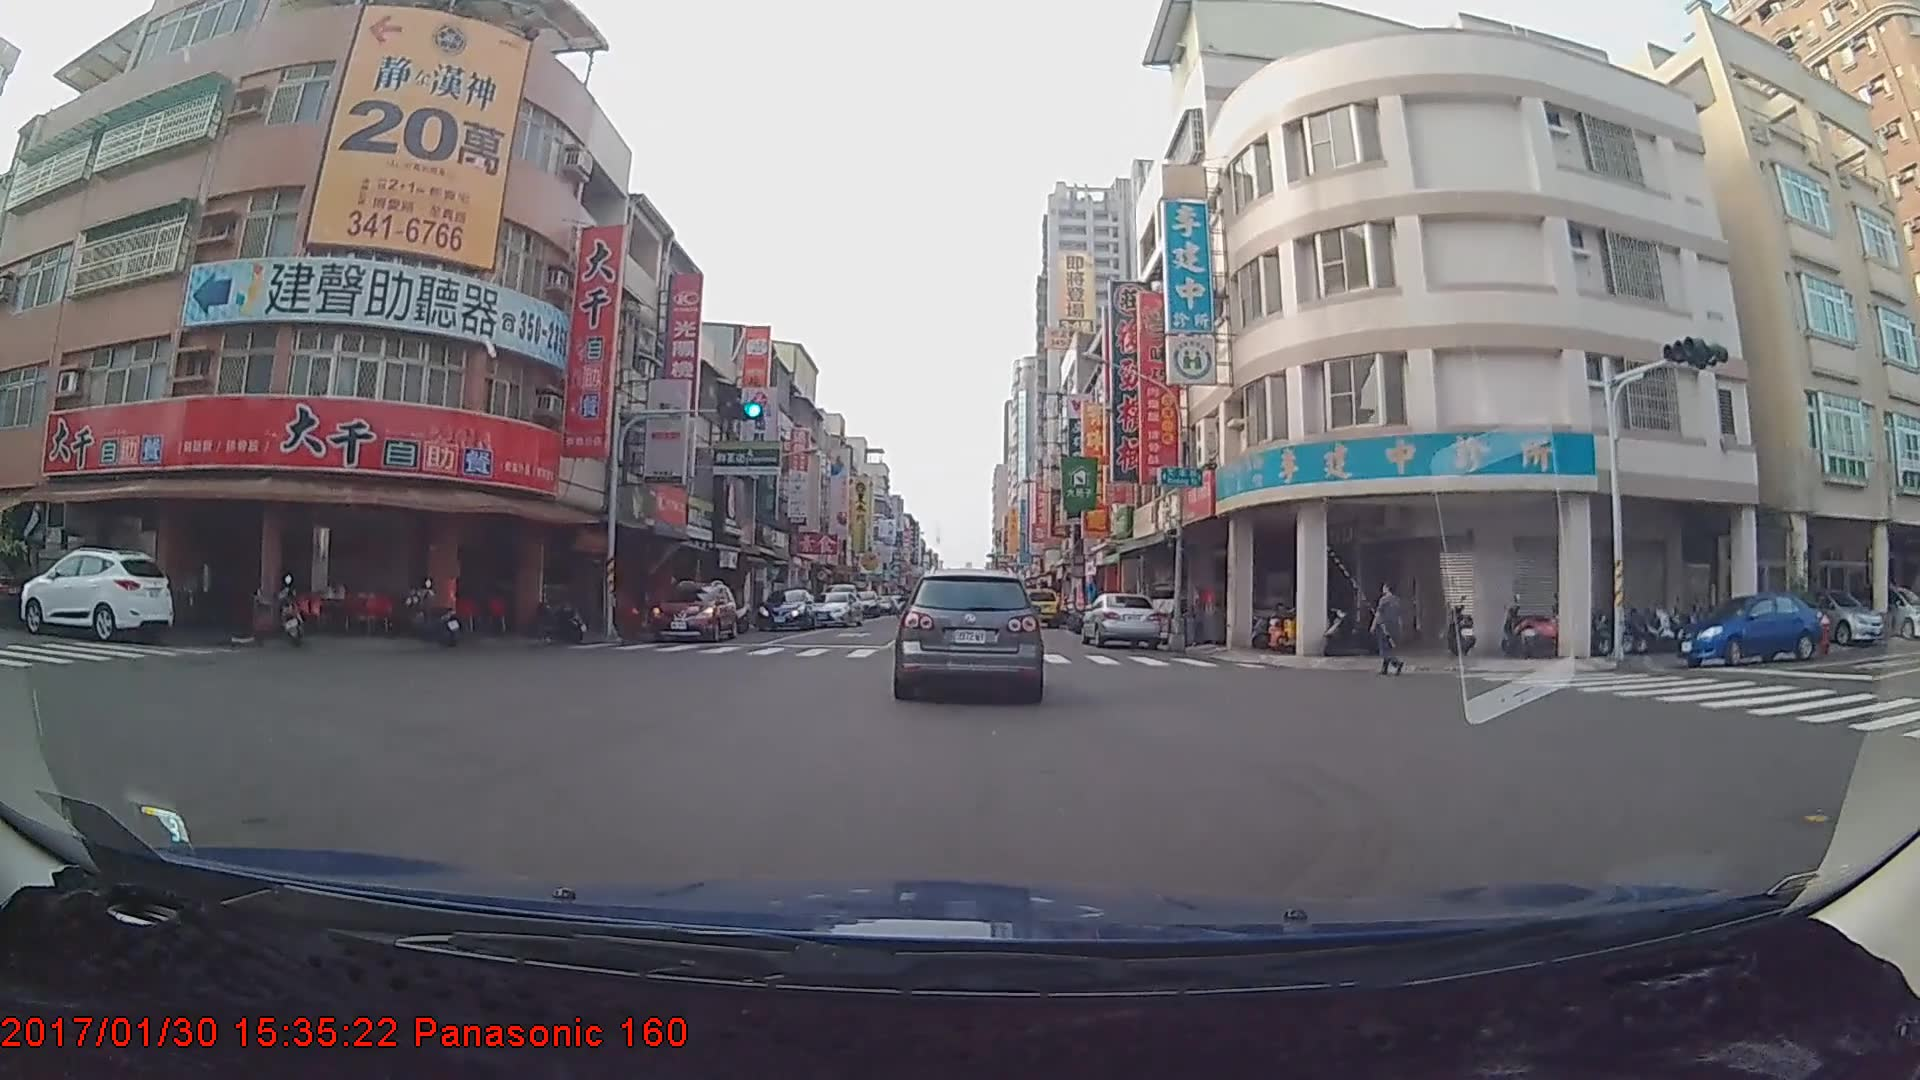pedestrian: (1370, 586, 1408, 680)
vehicle: (894, 570, 1043, 702), (17, 547, 172, 644), (1673, 594, 1826, 671), (1777, 581, 1887, 649), (649, 581, 739, 642), (1839, 582, 1920, 643), (1080, 592, 1161, 651), (754, 587, 817, 632), (806, 590, 864, 628), (1015, 587, 1062, 628)
